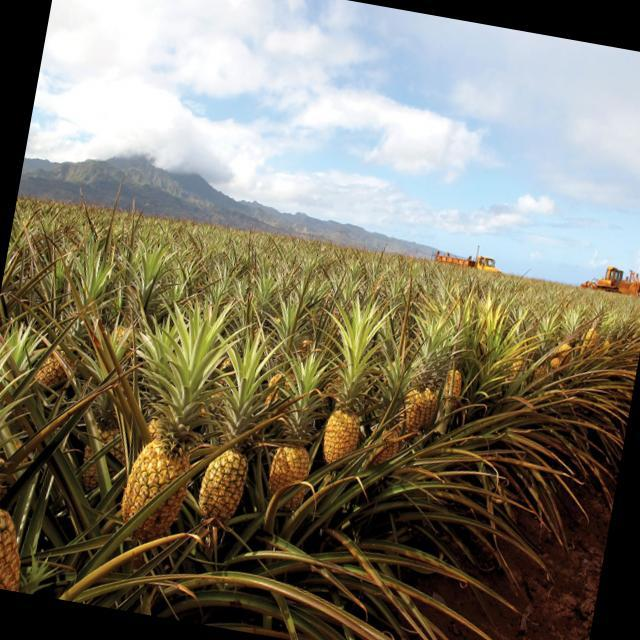PINEAPLE: (118, 398, 204, 536), (199, 408, 260, 518), (263, 406, 324, 507), (0, 454, 39, 591), (322, 376, 376, 468), (27, 326, 79, 382), (399, 369, 435, 442), (548, 308, 586, 375), (441, 361, 467, 424), (515, 354, 527, 374)
